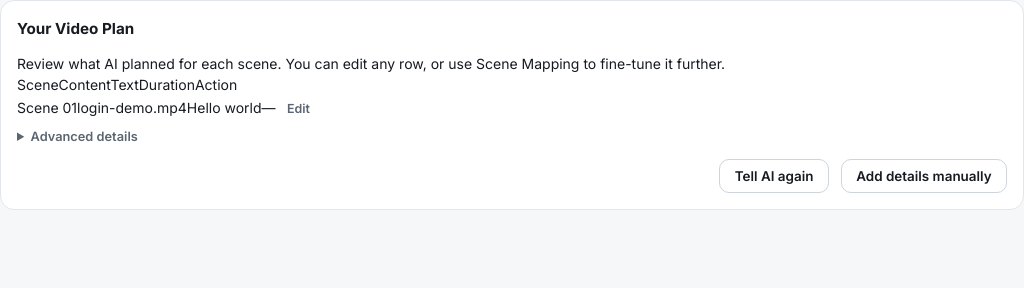
Test: ProjectWorkMapTab - Simple Mode default (video-planning UX simplification, 2026-08-31) › Advanced Mode still exposes the real composition/asset IDs under Advanced details, unchanged
Expected: the heading "Your Video Plan" is shown, [17,17,134,41]
Click the heading "Advanced details".
click(84, 137)  # box [30,129,138,144]
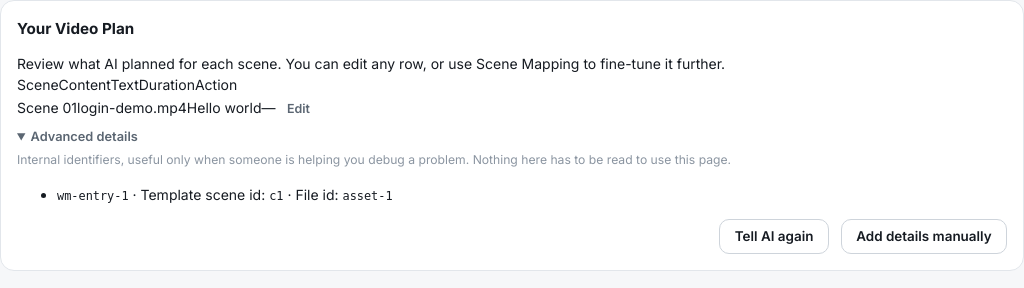
Now the text "c1" is shown, box [269,189,283,203]
Now the text "asset-1" is shown, box [342,189,393,203]
